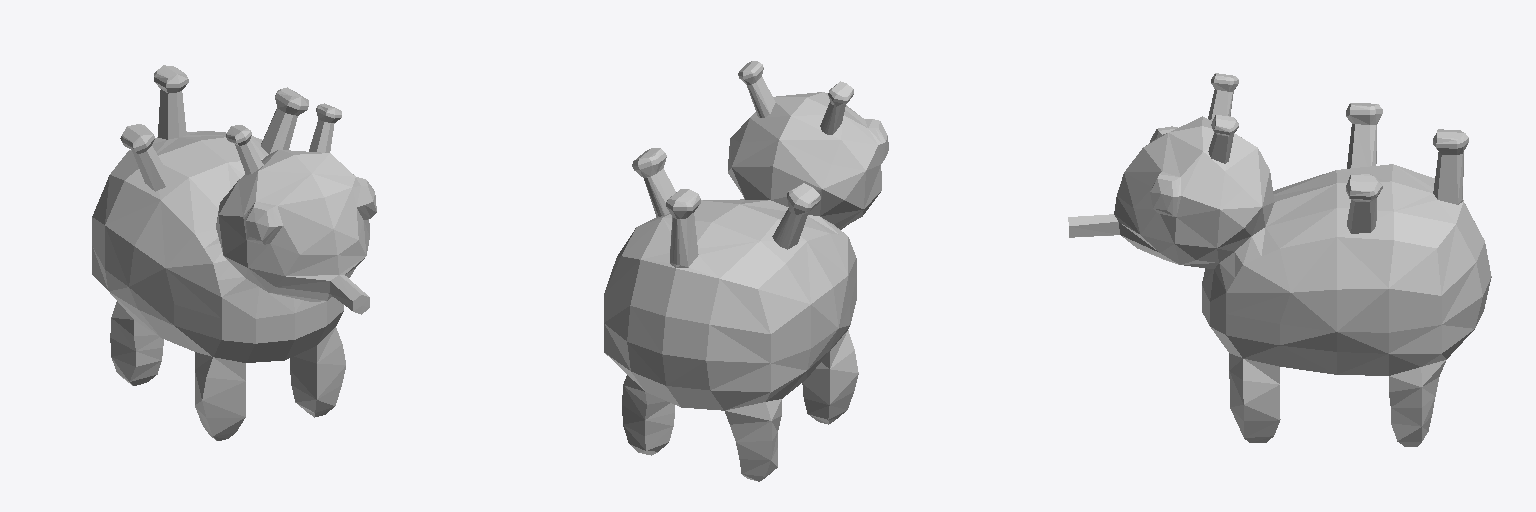
Rendered from BadderyV1 (2).obj.
3 views of the same model, side by side, from view 1: azimuth 30°, elevation 25°; view 2: azimuth 150°, elevation 25°; view 3: azimuth 270°, elevation 25° (orthographic).
Visible parts, largest first — view 1: Cube; view 2: Cube; view 3: Cube.
Boxes of the visible parts, x1=… form: Cube: x1=92, y1=65, x2=376, y2=440; Cube: x1=604, y1=61, x2=888, y2=481; Cube: x1=1068, y1=73, x2=1491, y2=446.
Bounding box in the file's own units: 9.64 × 15.01 × 17.88.